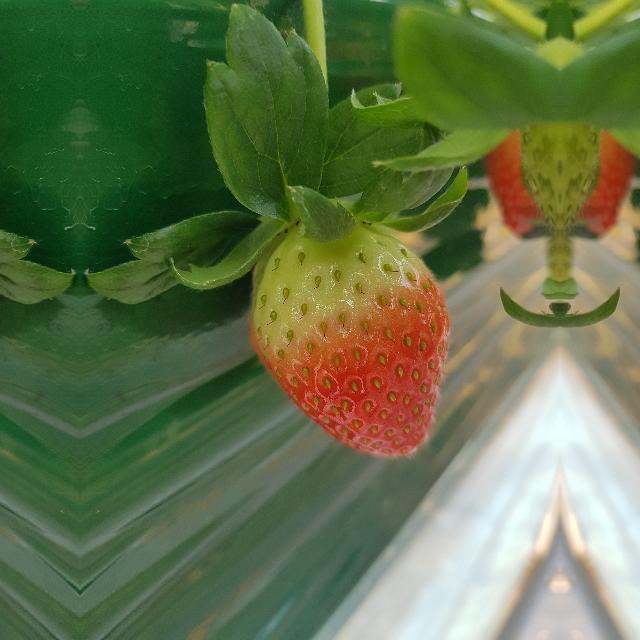Health_75: (246, 216, 452, 459)
